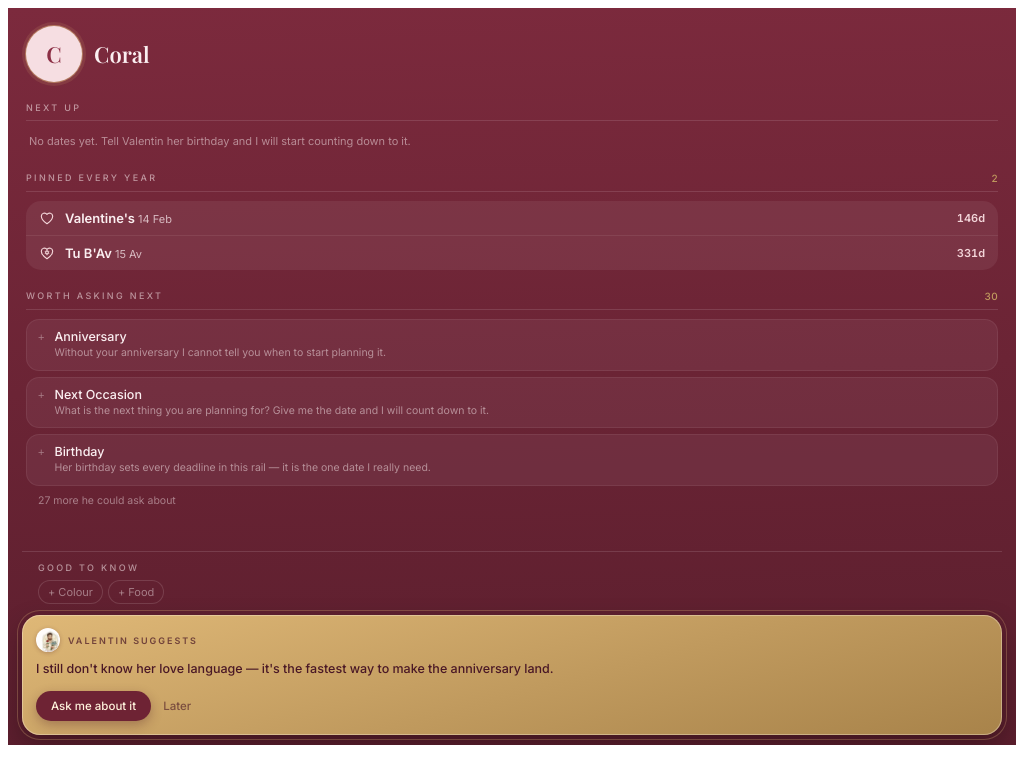
Test: BriefRail — good to know › puts the question in the composer when a chip is clicked
This screenshot has width=1024, height=768.
Click the button with test id "brief-chip" showing "+ Colour": {"x": 70, "y": 592} [38,580,103,604]
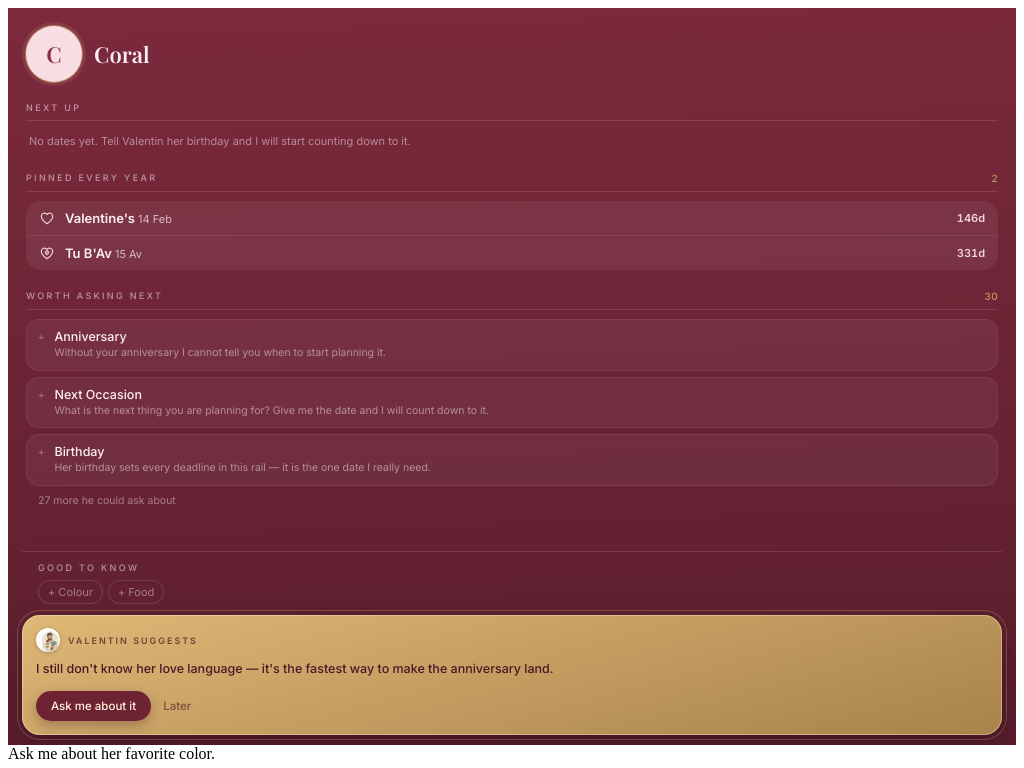
Expected: the text with test id "composer-probe" reads "Ask me about her favorite color.", [8,745,215,762]
